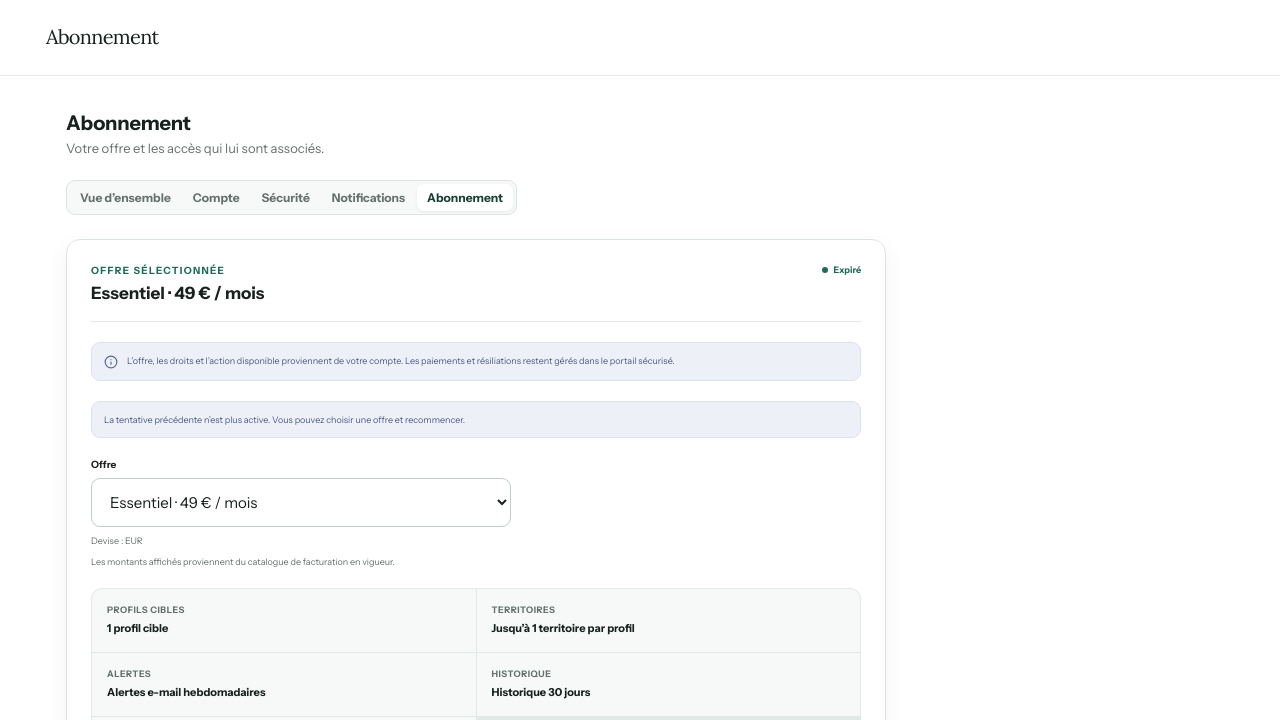
it: copy terminale › ne parle pas d’incident en cours sur une tentative expirée
This screenshot has width=1280, height=720.
Select "Pro · 99 € / mois · Recommandé" in the dropdown labelled "Offre" at {"x": 301, "y": 503}, box [91, 478, 511, 527]
(page scrolled)
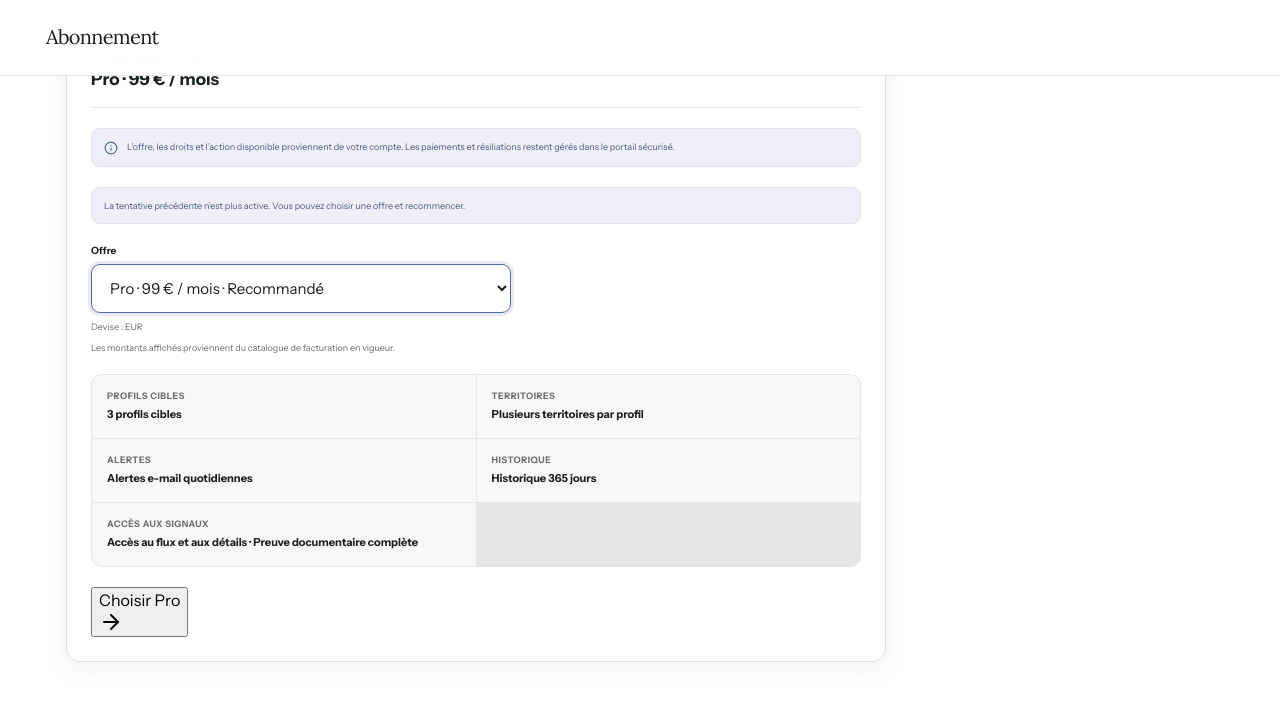
Expected: the text "La tentative précédente n’est plus active." is shown, [104, 200, 465, 211]
Now the button "Choisir Pro" is shown, box [91, 587, 188, 637]
